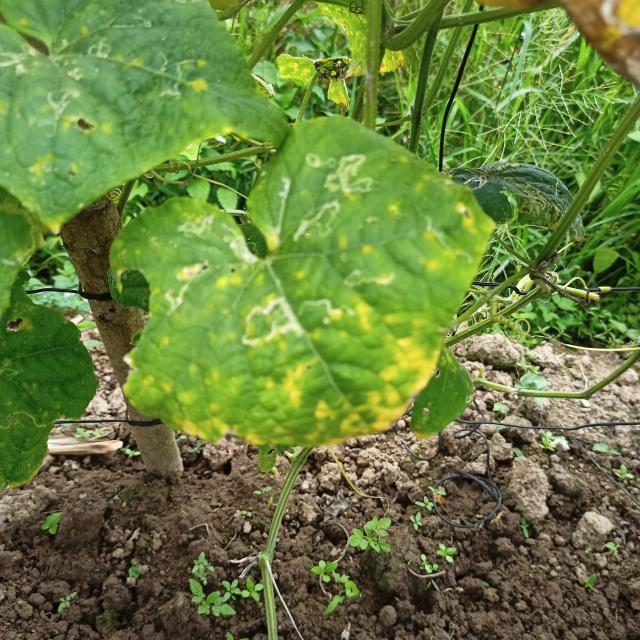disease_cucumber: (277, 306, 436, 456), (143, 358, 288, 455)
